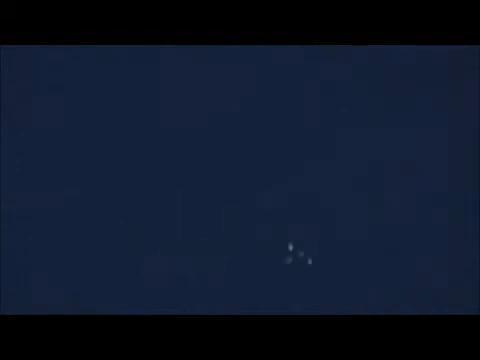Plane: (265, 233, 322, 274)
